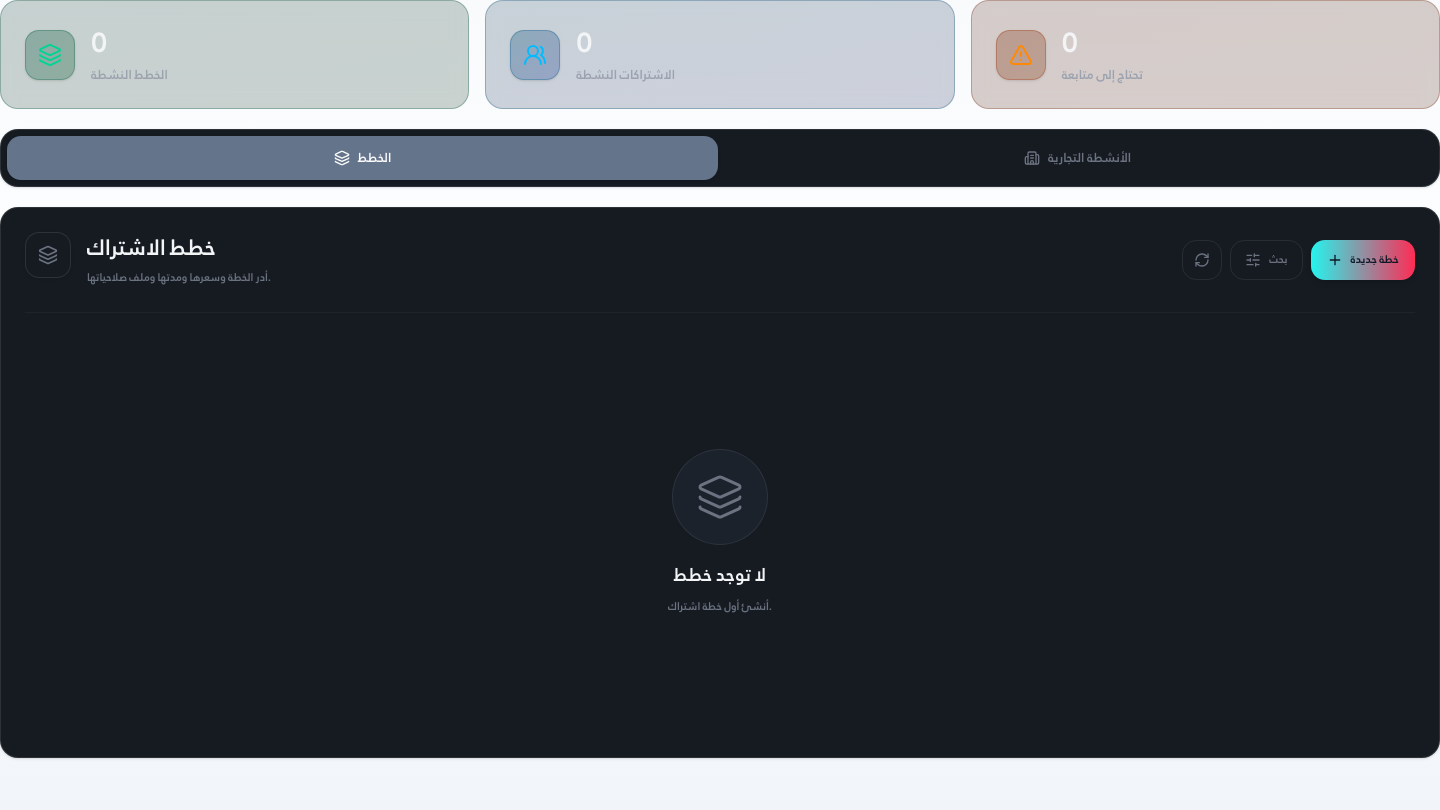
Test: BillingPage Arabic › uses Arabic labels for both billing cycles in the new-plan form
Click the button "خطة جديدة" at {"x": 1363, "y": 260}, box [1310, 240, 1415, 280]
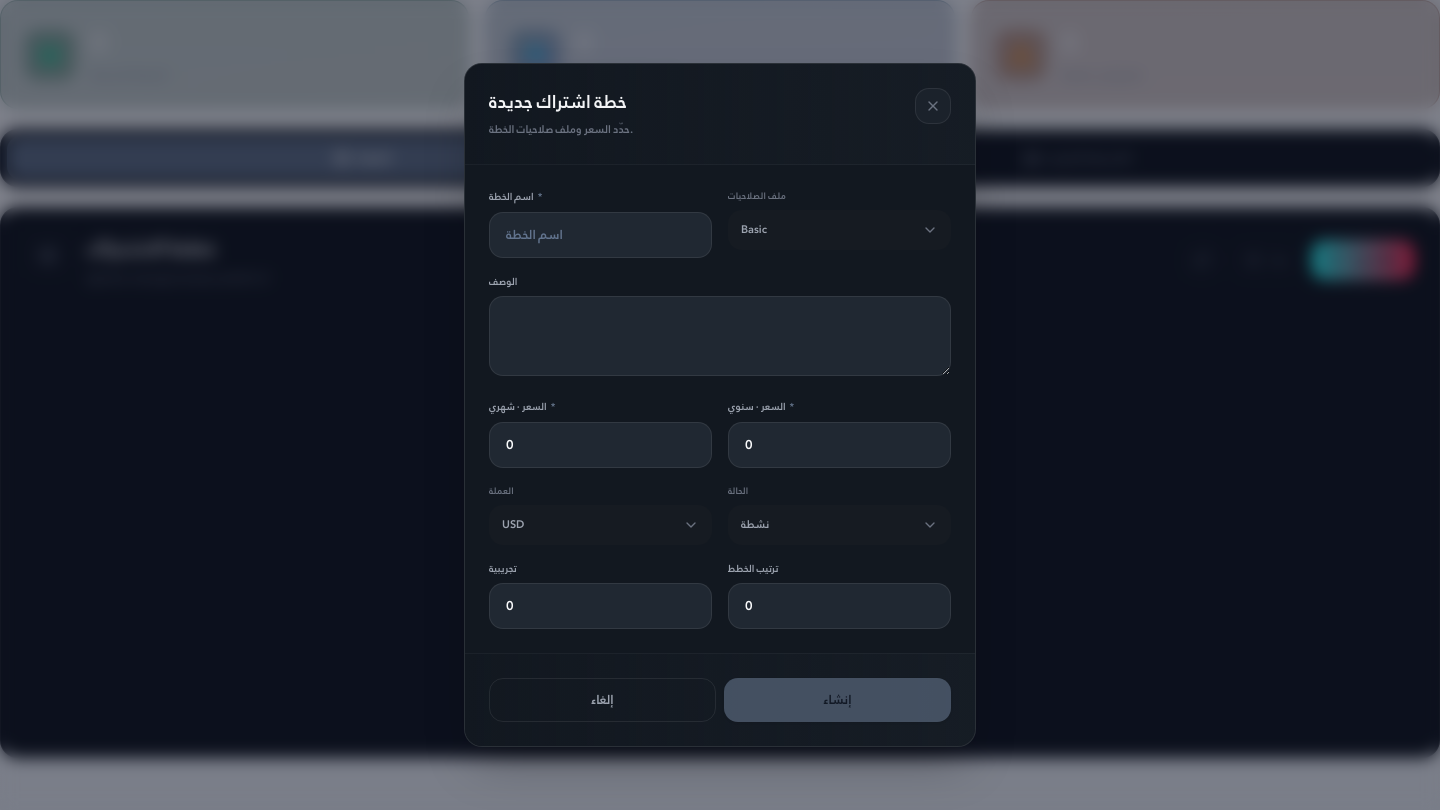
Expected: the heading "خطة اشتراك جديدة" is shown, [489, 88, 633, 116]
Expected: the number field labelled "السعر · شهري*" is shown, [489, 422, 712, 468]
Expected: the number field labelled "السعر · سنوي*" is shown, [728, 422, 951, 468]
